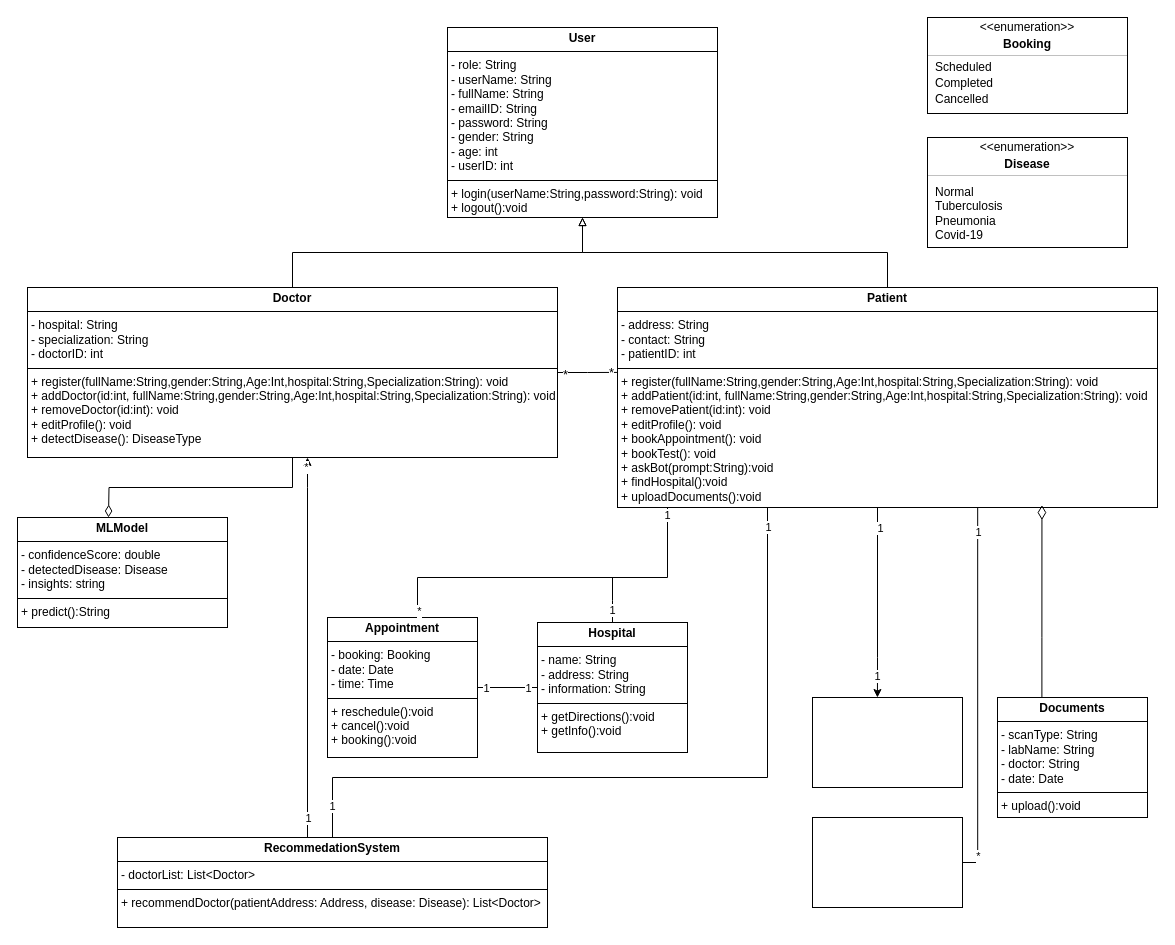
Some shapes in this 1175 by 945 pixel diagram are drawn without their labels. Each missing label, with the centre of its shape:
Chatbot - prompt: string + respond():String + askBot():void: (x=887, y=742)
LabTest - type: String - cost: Double + bookTest():void: (x=887, y=862)
